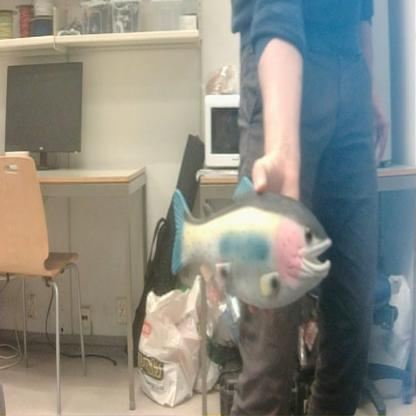rubberfish: (168, 173, 335, 315)
